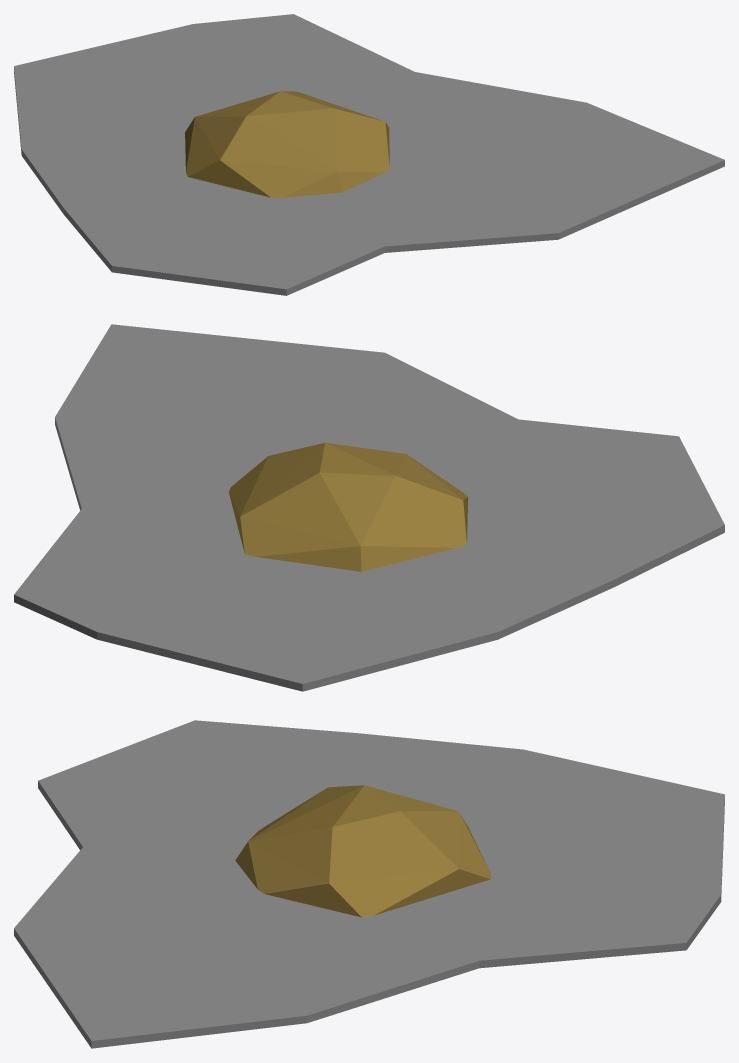
File: egg_fried.glb
3 views of the same model, one above another, from view 1: azimuth 30°, elevation 25°; view 2: azimuth 150°, elevation 25°; view 3: azimuth 270°, elevation 25° (orthographic). The views are drawn at different scales.
Parts seen in each view (by area): view 1: egg_fried; view 2: egg_fried; view 3: egg_fried.
Part boxes in pixels (x1,y1,x2,y2): egg_fried: (14, 14, 724, 295); egg_fried: (14, 324, 724, 691); egg_fried: (14, 720, 724, 1048).
Bounding box in the file's own units: 0.12 × 0.0108 × 0.1124.
